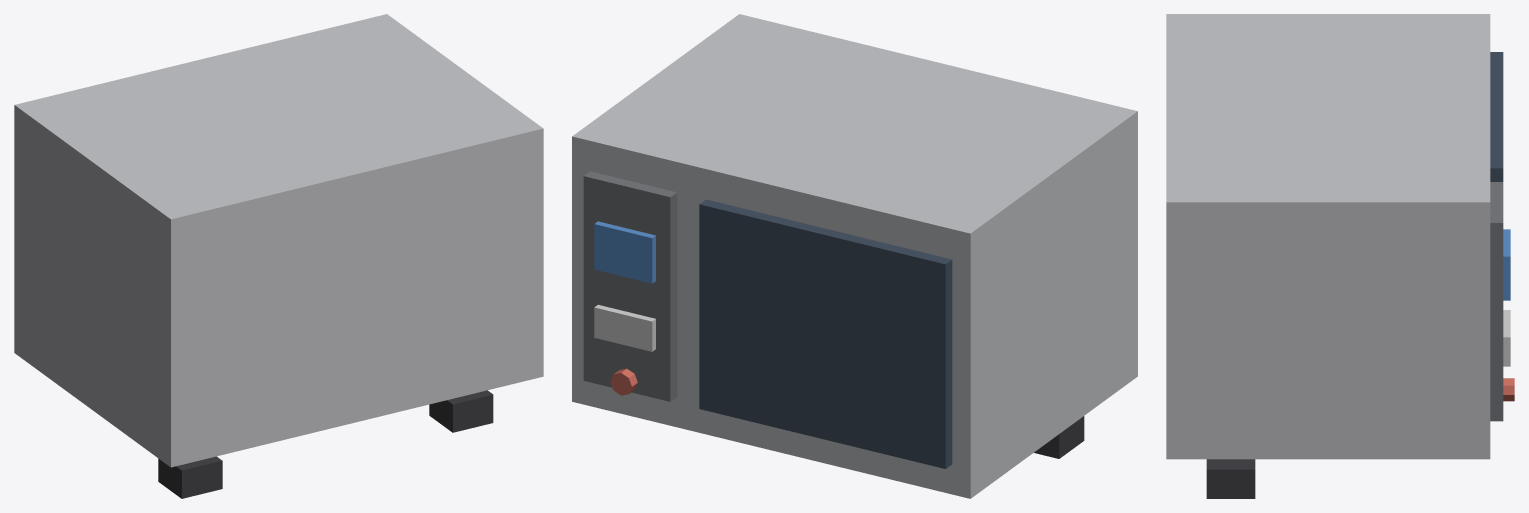
The model's file is eld_micro_ondas2.glb.
3 views of the same model, side by side, from view 1: azimuth 30°, elevation 25°; view 2: azimuth 150°, elevation 25°; view 3: azimuth 270°, elevation 25° (orthographic). The views are drawn at different scales.
Parts seen in each view (by area): view 1: ELD_MICRO_ONDAS2_v01; view 2: ELD_MICRO_ONDAS2_v01; view 3: ELD_MICRO_ONDAS2_v01.
Part boxes in pixels (bbox=[...]): ELD_MICRO_ONDAS2_v01: bbox=[14, 14, 543, 498]; ELD_MICRO_ONDAS2_v01: bbox=[572, 14, 1137, 498]; ELD_MICRO_ONDAS2_v01: bbox=[1166, 14, 1514, 498].
Bounding box in the file's own units: 0.55 × 0.425 × 0.43.
